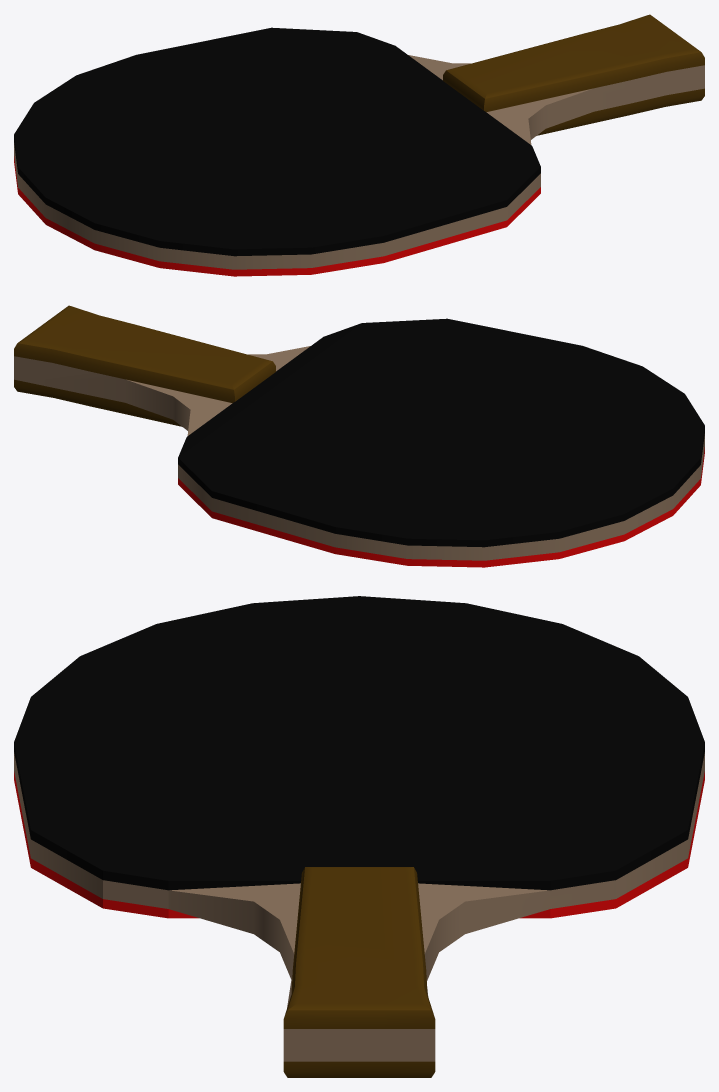
File: PingPongBat.fbx
The picture shows the model from 3 angles, top to bottom: view 1: azimuth 30°, elevation 25°; view 2: azimuth 150°, elevation 25°; view 3: azimuth 270°, elevation 25°; orthographic projection. The views are drawn at different scales.
Visible parts, largest first — view 1: pCube5; view 2: pCube5; view 3: pCube5.
Boxes of the visible parts, x1,y1,x2,y2 form: pCube5: (14, 14, 704, 276); pCube5: (14, 305, 704, 567); pCube5: (14, 596, 704, 1077).
Size of the model in its own units: 2.95 by 0.2353 by 2.
